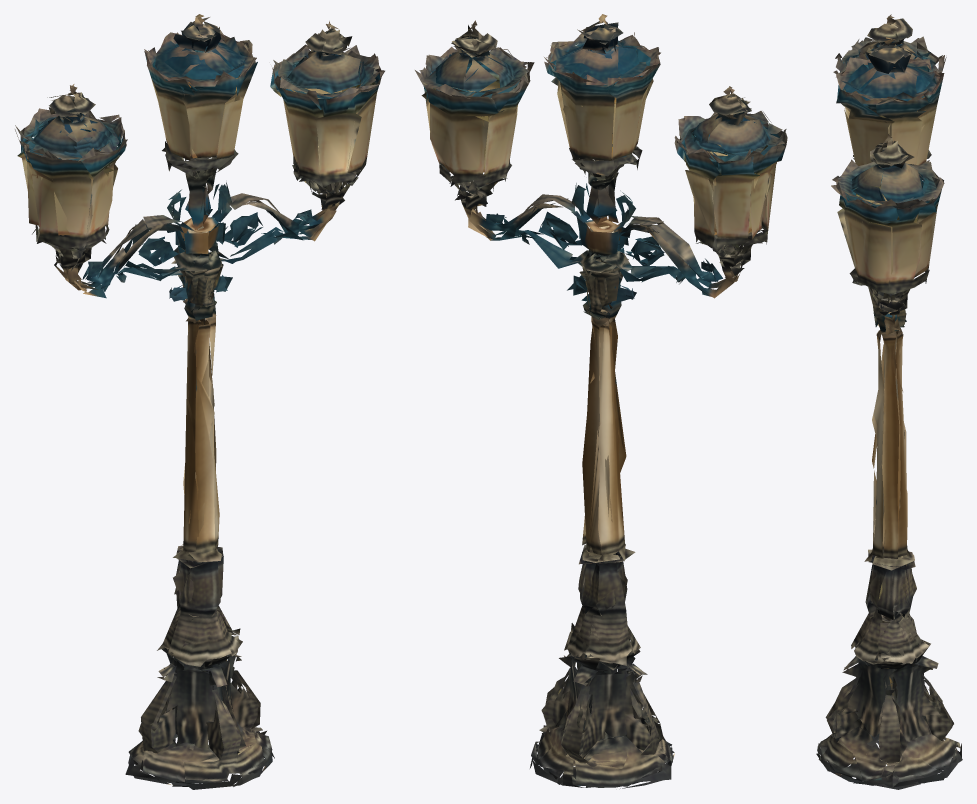
The model's file is unified--detail--lamp.glb.
The picture shows the model from 3 angles, left to right: view 1: azimuth 30°, elevation 25°; view 2: azimuth 150°, elevation 25°; view 3: azimuth 270°, elevation 25°; orthographic projection. The views are drawn at different scales.
Parts seen in each view (by area): view 1: lamp-1; view 2: lamp-1; view 3: lamp-1.
Part boxes in pixels (bbox=[...]): lamp-1: bbox=[15, 14, 384, 789]; lamp-1: bbox=[415, 14, 787, 788]; lamp-1: bbox=[816, 14, 962, 789].
Size of the model in its own units: 1.6 by 3.21 by 0.591.
Materials: 1 (1 with a texture image).
